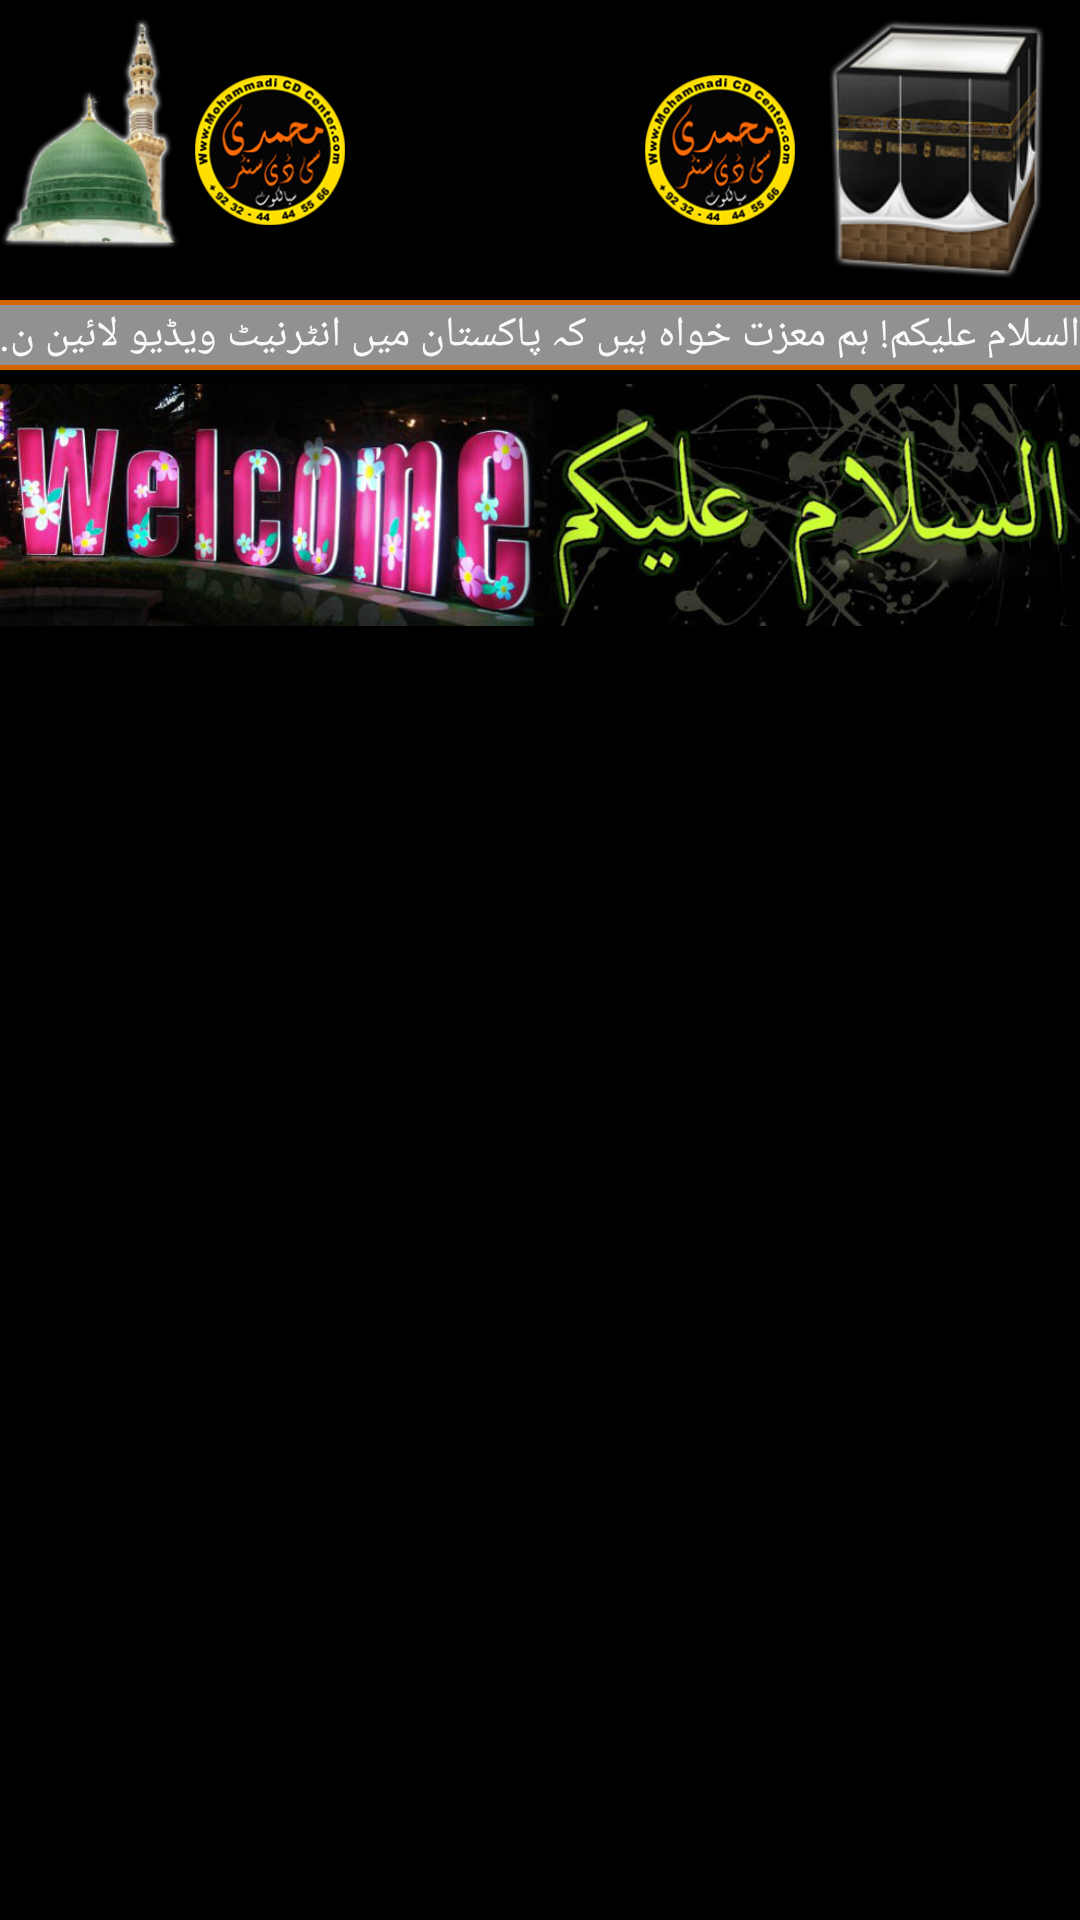

Named icons in this screenshot (1080*1920) and their bounding boxes, Rect(x1, y1, x2, y2):
makkah: Rect(831, 22, 1043, 276)
roza rasool: Rect(4, 21, 176, 247)
